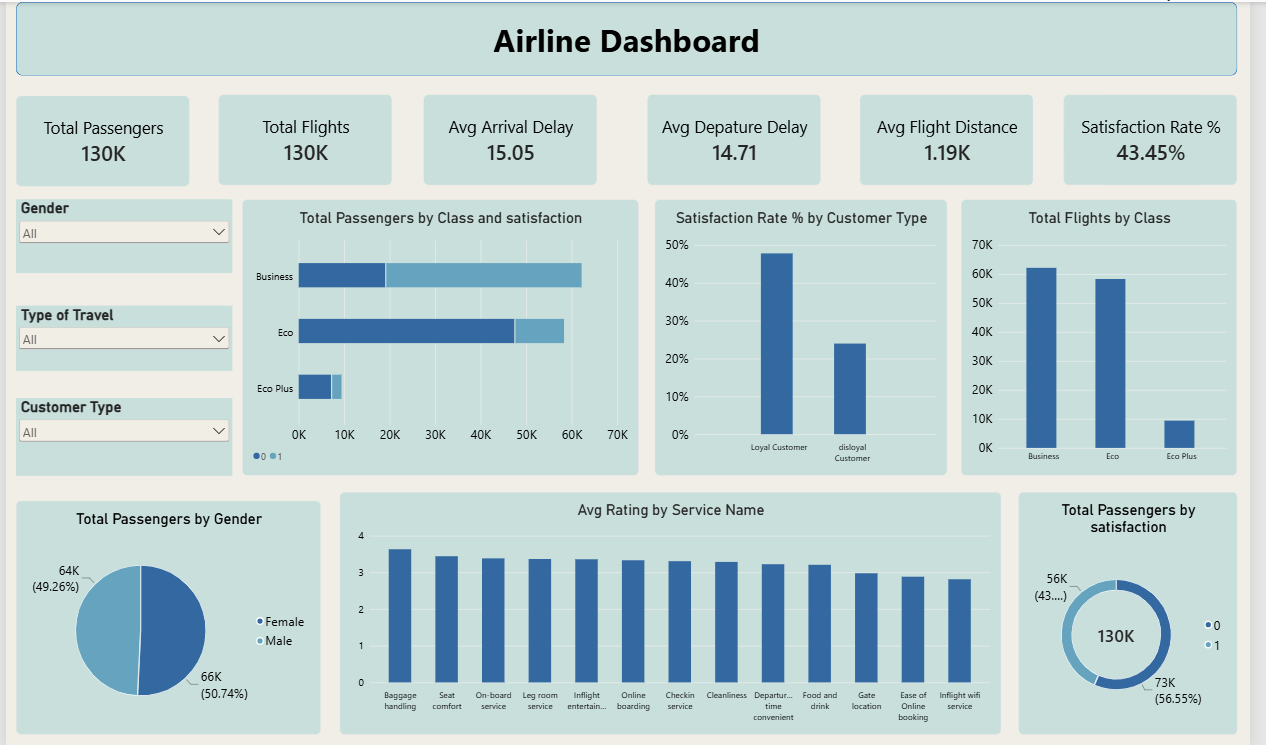

The dashboard page shown, as its layout file describes it:
{"tool":"powerbi","page":{"name":"Page 1","canvas":[2000,1200],"ordinal":0},"visuals":[{"type":"cardVisual","fields":{"Data":["-Measures.Total Passengers"]},"box":[16.1,150.8,279.5,146.8],"z":0},{"type":"shape","title":"AirLine Dashboard","box":[16.1,0,1964.5,118.6],"z":1000},{"type":"cardVisual","fields":{"Data":["-Measures.Total Flights"]},"box":[341.8,148.8,279.5,146.8],"z":2000},{"type":"cardVisual","fields":{"Data":["-Measures.Avg Arrival Delay"]},"box":[671.6,148.8,279.5,146.8],"z":3000},{"type":"cardVisual","fields":{"Data":["-Measures.Avg Depature Delay"]},"box":[1031.5,148.8,279.5,146.8],"z":4000},{"type":"cardVisual","fields":{"Data":["-Measures.Avg Flight Distance"]},"box":[1373.3,148.8,279.5,146.8],"z":5000},{"type":"cardVisual","fields":{"Data":["-Measures.Satisfaction Rate %"]},"box":[1701.1,148.8,279.5,146.8],"z":6000},{"type":"pieChart","fields":{"Category":["Dim Passenger.Gender"],"Y":["-Measures.Total Passengers"]},"box":[16.1,802.3,490.6,376],"z":7000},{"type":"barChart","fields":{"Category":["Dim Flight.Class"],"Series":["Fact Satisfaction.satisfaction"],"Y":["-Measures.Total Passengers"]},"box":[380,317.7,637.4,444.4],"z":8000},{"type":"clusteredColumnChart","fields":{"Category":["Dim Service.Service Name"],"Y":["-Measures.Avg Rating"]},"box":[536.9,788.2,1063.7,390.1],"z":9000},{"type":"donutChart","fields":{"Category":["Fact Satisfaction.satisfaction"],"Y":["-Measures.Total Passengers"]},"box":[1628.7,788.2,351.9,390.1],"z":10000},{"type":"clusteredColumnChart","fields":{"Category":["Dim Passenger.Customer Type"],"Y":["-Measures.Satisfaction Rate %"]},"box":[1043.6,317.7,470.5,444.4],"z":11000},{"type":"clusteredColumnChart","fields":{"Category":["Dim Flight.Class"],"Y":["-Measures.Total Flights"]},"box":[1536.2,317.7,444.4,444.4],"z":12000},{"type":"slicer","fields":{"Values":["Dim Passenger.Gender"]},"box":[16.1,317.7,347.9,118.6],"z":13000},{"type":"slicer","fields":{"Values":["Dim Flight.Type of Travel"]},"box":[16.1,488.6,347.9,104.6],"z":14000},{"type":"slicer","fields":{"Values":["Dim Passenger.Customer Type"]},"box":[16.1,637.4,347.9,124.7],"z":15000},{"type":"image","box":[1230.6,8,160.9,110.6],"z":15501}]}

Visuals, with their boxes in screenshot pixels (x1, y1, x2, y2), scaled from the page's 2000x1200 canvas onto the 1266x745 screenshot:
cardVisual - -Measures.Total Passengers: rect(10, 94, 187, 185)
"AirLine Dashboard" shape: rect(10, 0, 1254, 74)
cardVisual - -Measures.Total Flights: rect(216, 92, 393, 184)
cardVisual - -Measures.Avg Arrival Delay: rect(425, 92, 602, 184)
cardVisual - -Measures.Avg Depature Delay: rect(653, 92, 830, 184)
cardVisual - -Measures.Avg Flight Distance: rect(869, 92, 1046, 184)
cardVisual - -Measures.Satisfaction Rate %: rect(1077, 92, 1254, 184)
pieChart - Dim Passenger.Gender x -Measures.Total Passengers: rect(10, 498, 321, 732)
barChart - Dim Flight.Class x Fact Satisfaction.satisfaction: rect(241, 197, 644, 473)
clusteredColumnChart - Dim Service.Service Name x -Measures.Avg Rating: rect(340, 489, 1013, 732)
donutChart - Fact Satisfaction.satisfaction x -Measures.Total Passengers: rect(1031, 489, 1254, 732)
clusteredColumnChart - Dim Passenger.Customer Type x -Measures.Satisfaction Rate %: rect(661, 197, 958, 473)
clusteredColumnChart - Dim Flight.Class x -Measures.Total Flights: rect(972, 197, 1254, 473)
slicer - Dim Passenger.Gender: rect(10, 197, 230, 271)
slicer - Dim Flight.Type of Travel: rect(10, 303, 230, 368)
slicer - Dim Passenger.Customer Type: rect(10, 396, 230, 473)
image: rect(779, 5, 881, 74)
